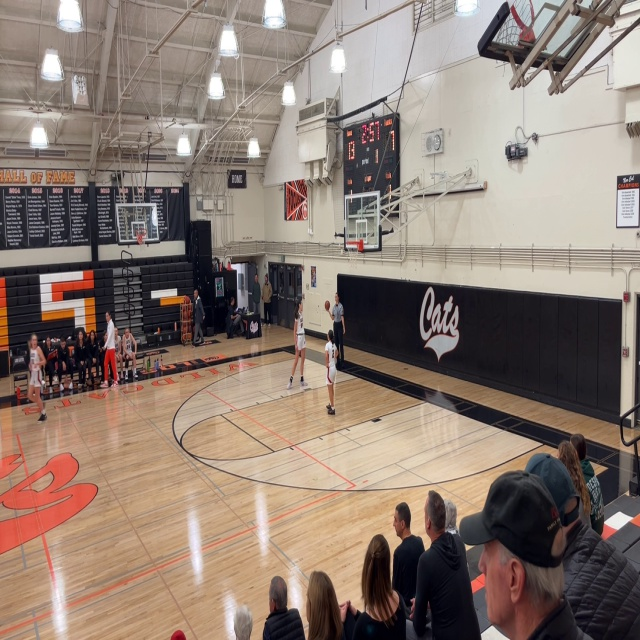Basketball: (324, 300, 330, 310)
